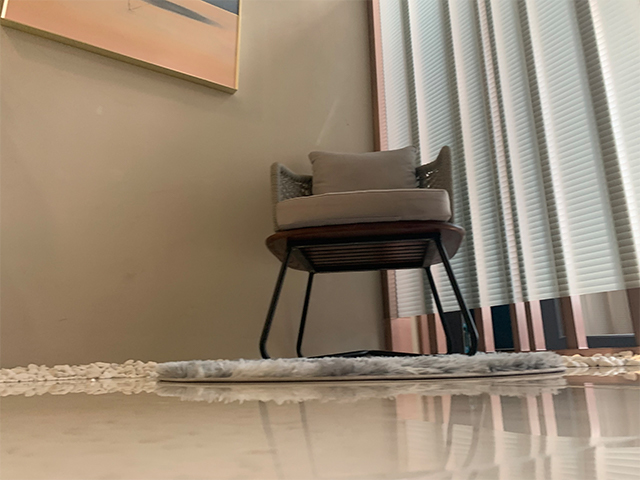carpet: (153, 350, 569, 384)
stool: (259, 144, 481, 360)
